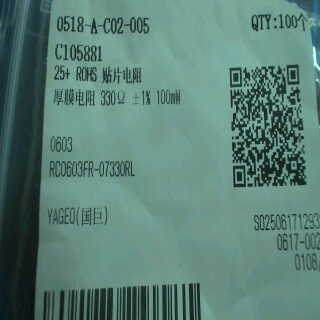330R: (96, 89, 128, 110)
